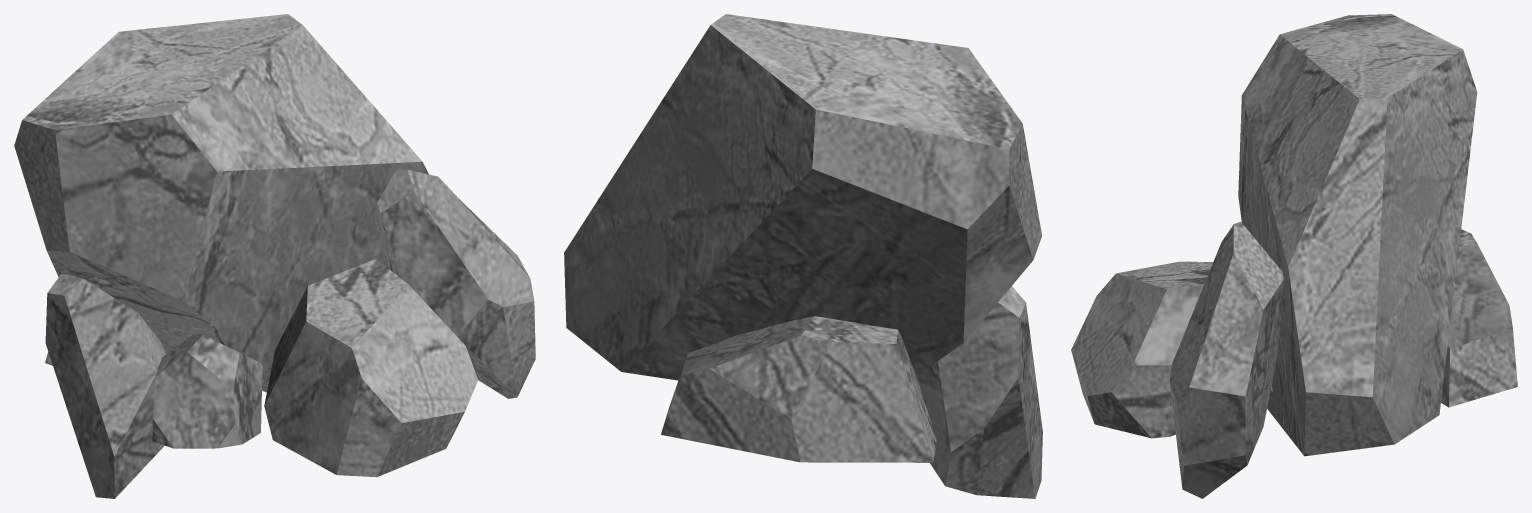
The model's file is rockA.fbx.
The picture shows the model from 3 angles, left to right: view 1: azimuth 30°, elevation 25°; view 2: azimuth 150°, elevation 25°; view 3: azimuth 270°, elevation 25°; orthographic projection. The views are drawn at different scales.
Parts seen in each view (by area): view 1: Cluster06; view 2: Cluster06; view 3: Cluster06.
Boxes of the visible parts, <box> form: Cluster06: <box>14,14,535,498</box>; Cluster06: <box>564,14,1042,498</box>; Cluster06: <box>1071,14,1517,498</box>.
Size of the model in its own units: 130 by 113 by 119.
1 material, 1 textured.
